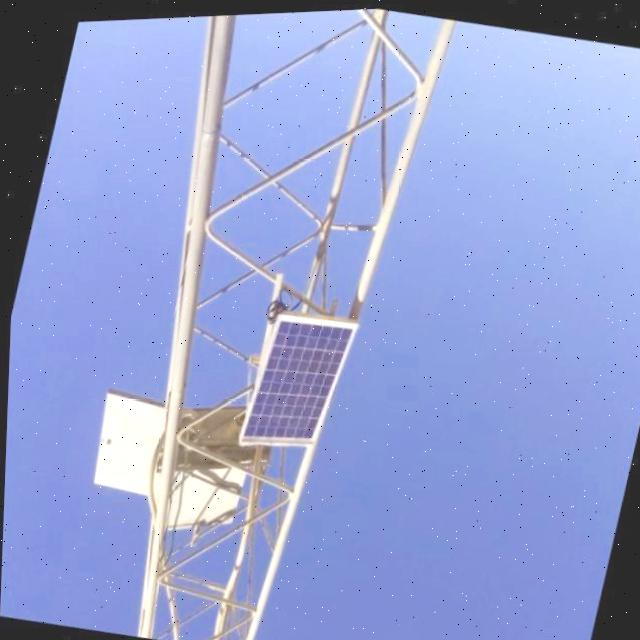Normal Solar Panel: (239, 306, 355, 457)
